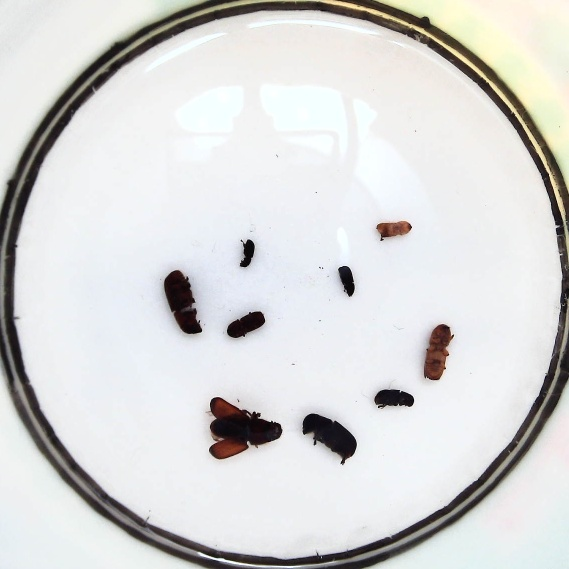acuminatus: (338, 266, 355, 297), (239, 239, 254, 267)
armandi: (374, 390, 414, 408)
boerner: (424, 323, 454, 381)
coleoptera: (375, 220, 412, 239)
leconte: (208, 397, 283, 459), (302, 413, 356, 460), (164, 270, 202, 334)
linnaeus: (227, 311, 265, 337)
